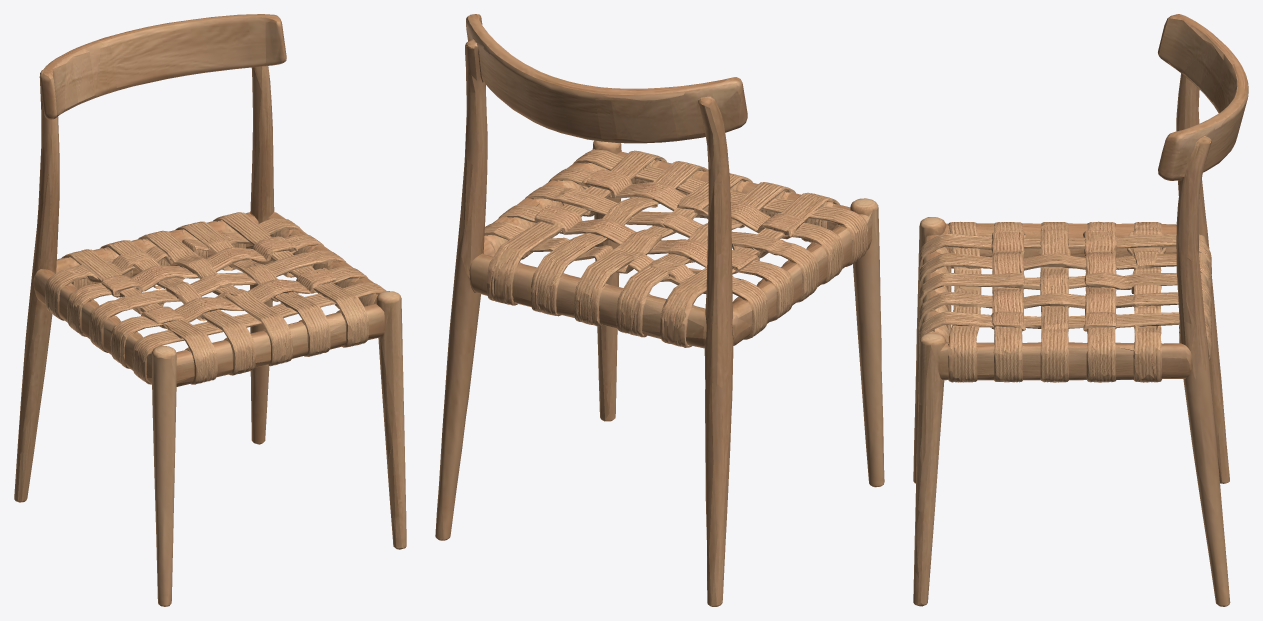
3 views of the same model, side by side, from view 1: azimuth 30°, elevation 25°; view 2: azimuth 150°, elevation 25°; view 3: azimuth 270°, elevation 25° (orthographic). The views are drawn at different scales.
Parts seen in each view (by area): view 1: Mesh_0; view 2: Mesh_0; view 3: Mesh_0.
Part boxes in pixels (<box>): Mesh_0: <box>14,14,406,606</box>; Mesh_0: <box>435,14,884,606</box>; Mesh_0: <box>913,14,1248,606</box>.
Bounding box in the file's own units: 0.5 × 0.85 × 0.55.
1 material, 1 textured.
